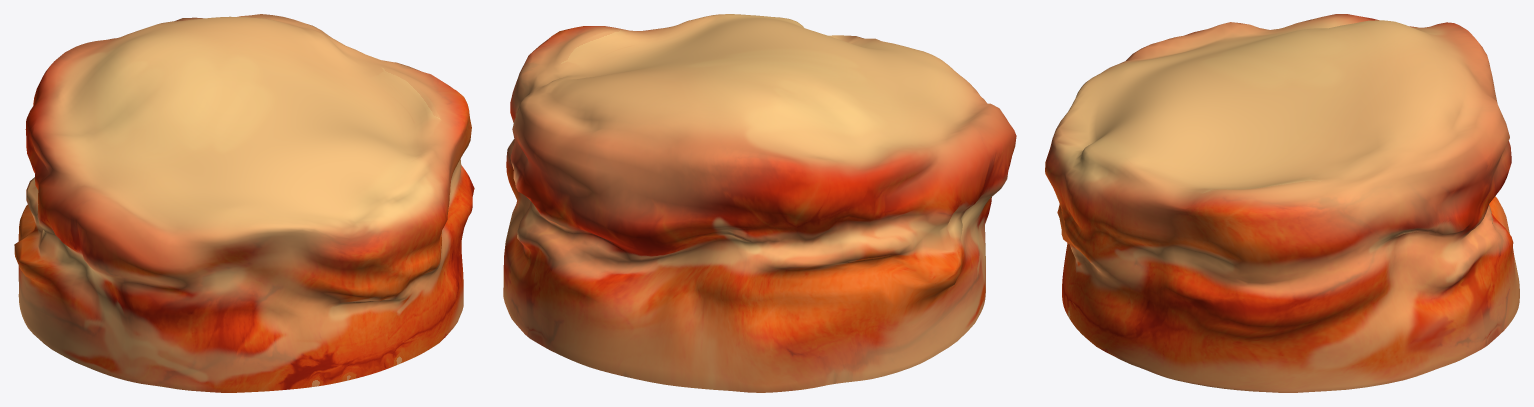
Rendered from RoundedLevelsBase 2 .fbx.
3 views of the same model, side by side, from view 1: azimuth 30°, elevation 25°; view 2: azimuth 150°, elevation 25°; view 3: azimuth 270°, elevation 25° (orthographic). The views are drawn at different scales.
Visible parts, largest first — view 1: RoundedLevelsBase 2; view 2: RoundedLevelsBase 2; view 3: RoundedLevelsBase 2.
Boxes of the visible parts, x1,y1,x2,y2 form: RoundedLevelsBase 2: (14, 14, 474, 392); RoundedLevelsBase 2: (503, 14, 1016, 392); RoundedLevelsBase 2: (1045, 14, 1519, 392).
Size of the model in its own units: 302 by 320 by 171.
Materials: 1 (1 with a texture image).
